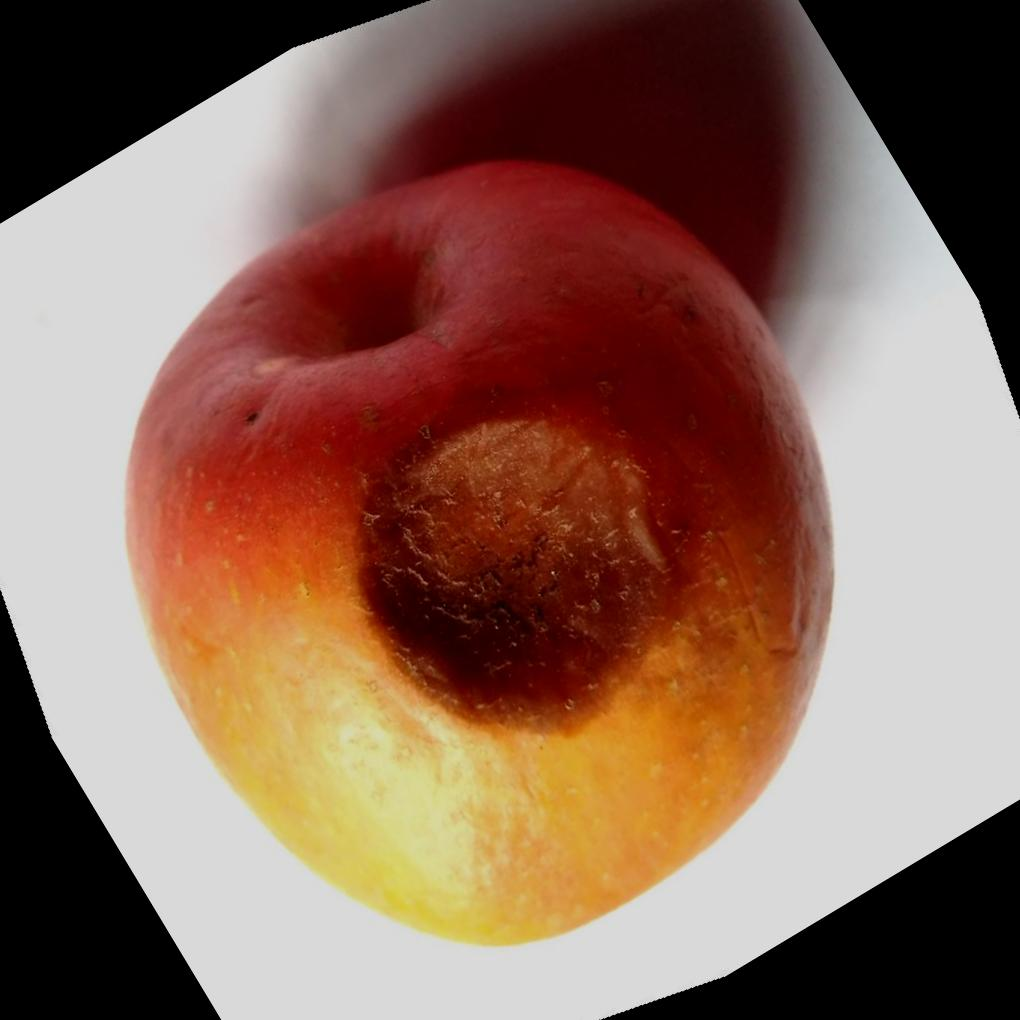FreshOrange: (122, 153, 839, 949)
